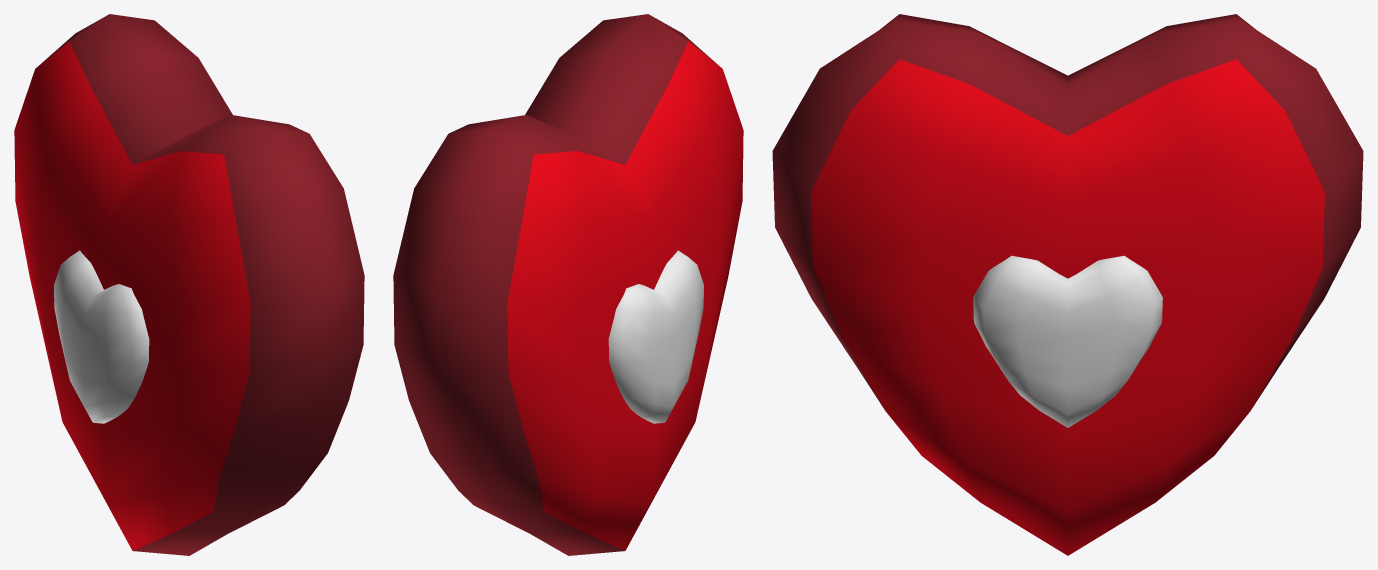
Rendered from Heart.fbx.
3 views of the same model, side by side, from view 1: azimuth 30°, elevation 25°; view 2: azimuth 150°, elevation 25°; view 3: azimuth 270°, elevation 25° (orthographic). The views are drawn at different scales.
Visible parts, largest first — view 1: Cube, Cube.001; view 2: Cube, Cube.001; view 3: Cube, Cube.001.
Part boxes in pixels (x1=…): Cube: x1=14, y1=14, x2=364, y2=555; Cube.001: x1=54, y1=250, x2=149, y2=423; Cube: x1=393, y1=14, x2=743, y2=555; Cube.001: x1=608, y1=250, x2=703, y2=423; Cube: x1=772, y1=14, x2=1363, y2=555; Cube.001: x1=973, y1=255, x2=1162, y2=427.
Bounding box in the file's own units: 155 × 334 × 340.
